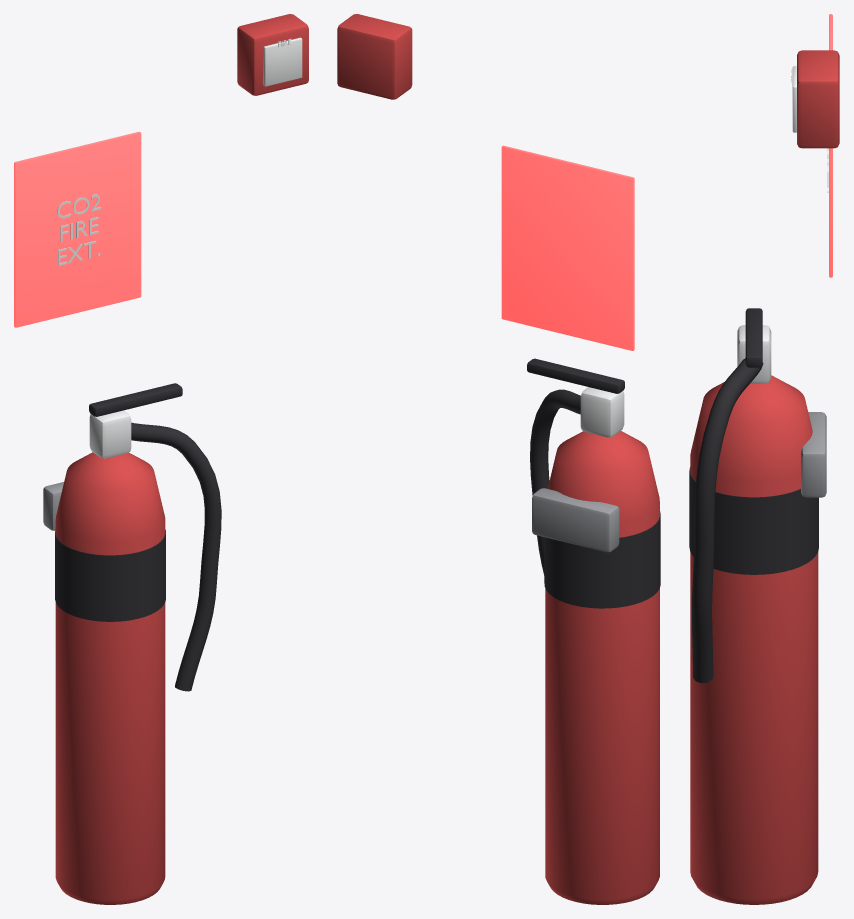
The model's file is FireSafetyPoint.fbx.
3 views of the same model, side by side, from view 1: azimuth 30°, elevation 25°; view 2: azimuth 150°, elevation 25°; view 3: azimuth 270°, elevation 25° (orthographic). The views are drawn at different scales.
Visible parts, largest first — view 1: FireSafetyPoint_Mesh; view 2: FireSafetyPoint_Mesh; view 3: FireSafetyPoint_Mesh.
Boxes of the visible parts, x1,y1,x2,y2 form: FireSafetyPoint_Mesh: (14,14,308,904); FireSafetyPoint_Mesh: (337,14,660,904); FireSafetyPoint_Mesh: (689,14,839,904).
Bounding box in the file's own units: 0.445 × 1.19 × 0.176.
